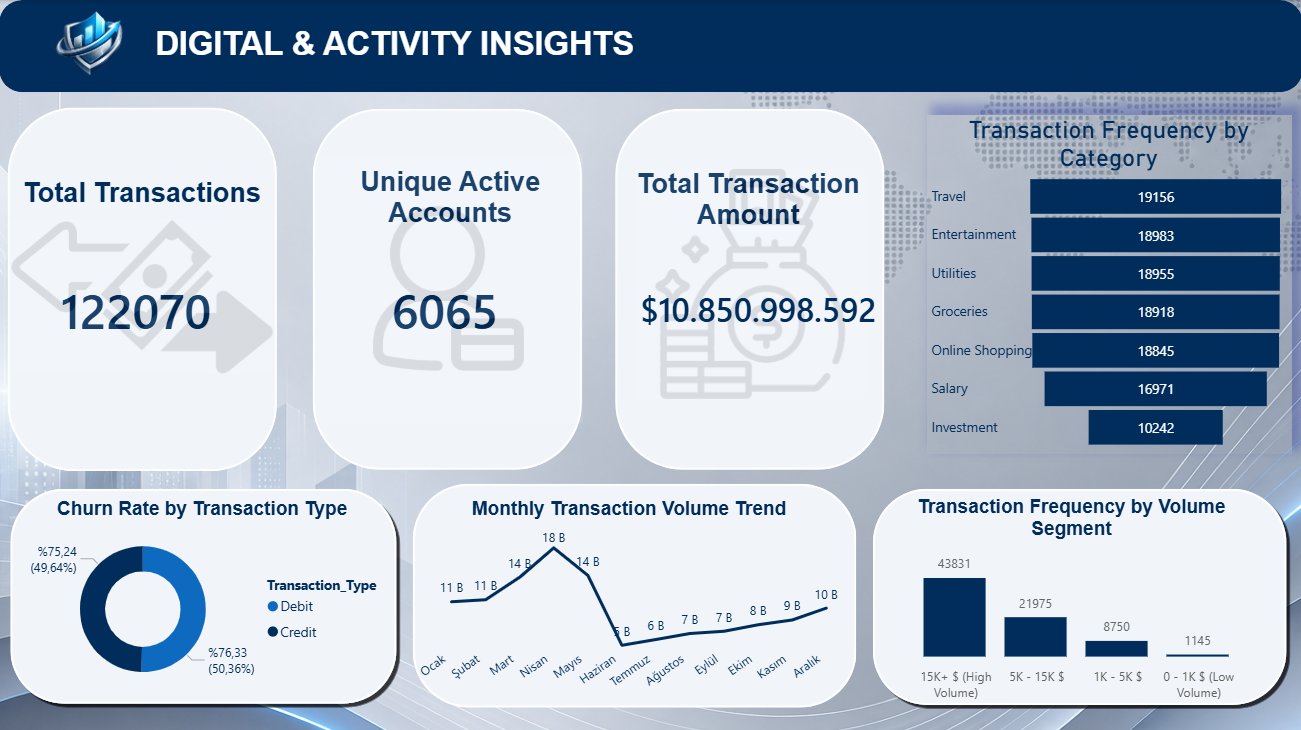

Layout of this report page (visuals, bound fields, positions):
{"tool":"powerbi","page":{"name":"3. sayfa","canvas":[1280,720],"ordinal":2},"visuals":[{"type":"shape","box":[8.2,106.1,264.3,357.1],"z":0},{"type":"shape","box":[6.1,474.8,389,220.9],"z":1000},{"type":"shape","box":[406.1,474.8,435.6,219.6],"z":2000},{"type":"shape","box":[0,0,1280,90.4],"z":3000},{"type":"textbox","box":[114.1,20.9,548.5,46.6],"z":4000},{"type":"cardVisual","title":"Total Customers","fields":{"Data":["CountNonNull(Transactions.Transaction_ID)"]},"box":[14.7,230.7,239.3,144.8],"z":5000},{"type":"textbox","box":[12.3,169.3,256.4,54],"z":6000},{"type":"image","box":[12.3,121.5,256.4,338.7],"z":7000},{"type":"image","box":[15.3,2.8,147.5,90.4],"z":8000},{"type":"shape","box":[308.5,106.6,264.3,354.3],"z":9000},{"type":"cardVisual","title":"Total Customers","fields":{"Data":["Count(Transactions.Account_ID)"]},"box":[321.3,223.3,232.8,160.2],"z":10000},{"type":"textbox","box":[312.6,158.6,260.1,74.8],"z":11000},{"type":"image","box":[309.2,105.5,263.8,354.6],"z":12000},{"type":"shape","box":[605.5,106.5,264.3,354.3],"z":13000},{"type":"textbox","box":[616,160.7,239.3,82.2],"z":14000},{"type":"image","box":[624.4,120.3,225.4,317.2],"z":15000},{"type":"donutChart","title":"Churn Rate by Transaction Type","fields":{"Category":["Transactions.Transaction_Type"],"Y":["_Measures.Churn Rate %"]},"box":[14.7,488.3,369.3,198.8],"z":16000},{"type":"shape","box":[852.8,474.8,416,222.1],"z":17000},{"type":"clusteredColumnChart","title":"Transaction Frequency by Volume Segment","fields":{"Category":["Transactions.Transaction Segment"],"Y":["CountNonNull(Transactions.Transaction_ID)"]},"box":[858.9,487.1,387.7,208.6],"z":18000},{"type":"lineChart","title":"Monthly Transaction Volume Trend","fields":{"Category":["Transactions.Transaction_Date.Varyasyon.Tarih Hiyerarşisi.Ay"],"Y":["CountNonNull(Transactions.Transaction_ID)"]},"box":[406.1,488.3,424.5,208.6],"z":19000},{"type":"funnel","title":"Transaction Frequency by Category","fields":{"Category":["Transactions.Category"],"Y":["CountNonNull(Transactions.Transaction_ID)"]},"box":[910.4,112.9,358.3,332.5],"z":20000},{"type":"cardVisual","title":"Total Customers","fields":{"Data":["Sum(Transactions.Amount)"]},"box":[580.4,222.1,330.1,160.7],"z":21000}]}

Visuals, with their boxes in screenshot pixels (x1, y1, x2, y2), scaled from the page's 1280x720 canvas onto the 1301x730 screenshot:
shape: box=[8, 108, 277, 470]
shape: box=[6, 481, 402, 705]
shape: box=[413, 481, 856, 704]
shape: box=[0, 0, 1300, 92]
textbox: box=[116, 21, 673, 68]
"Total Customers" cardVisual: box=[15, 234, 258, 381]
textbox: box=[13, 172, 273, 226]
image: box=[13, 123, 273, 467]
image: box=[16, 3, 165, 94]
shape: box=[314, 108, 582, 467]
"Total Customers" cardVisual: box=[327, 226, 563, 389]
textbox: box=[318, 161, 582, 237]
image: box=[314, 107, 582, 466]
shape: box=[615, 108, 884, 467]
textbox: box=[626, 163, 869, 246]
image: box=[635, 122, 864, 444]
"Churn Rate by Transaction Type" donutChart: box=[15, 495, 390, 697]
shape: box=[867, 481, 1290, 707]
"Transaction Frequency by Volume Segment" clusteredColumnChart: box=[873, 494, 1267, 705]
"Monthly Transaction Volume Trend" lineChart: box=[413, 495, 844, 707]
"Transaction Frequency by Category" funnel: box=[925, 114, 1290, 452]
"Total Customers" cardVisual: box=[590, 225, 925, 388]
